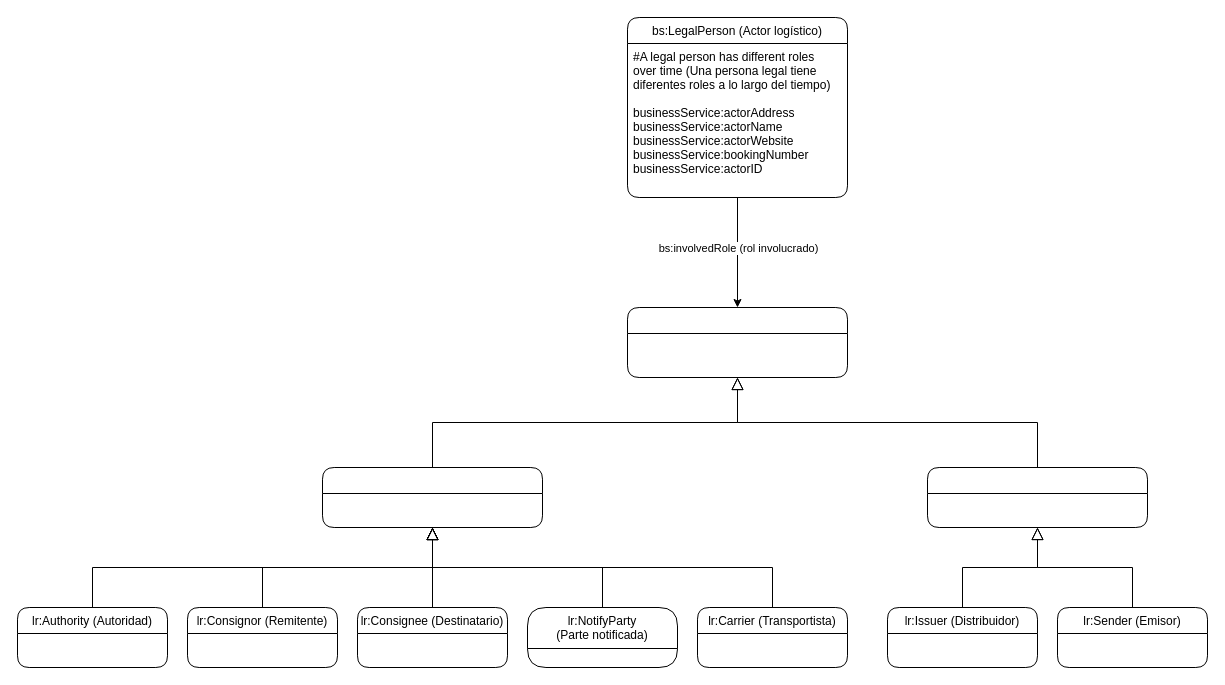
This 1225x685 diagram has some shape labels left out. Here are the shapes that lost their labels. From the top down, the centre of each, then its label:
At (x=737, y=342): "lr:ActorRoles (Roles de actores)".
At (x=432, y=497): "lr:LogisticsRoles (Roles logísticos)".
At (x=1037, y=497): "ls:BusinessRoles (Roles de negocios)".
